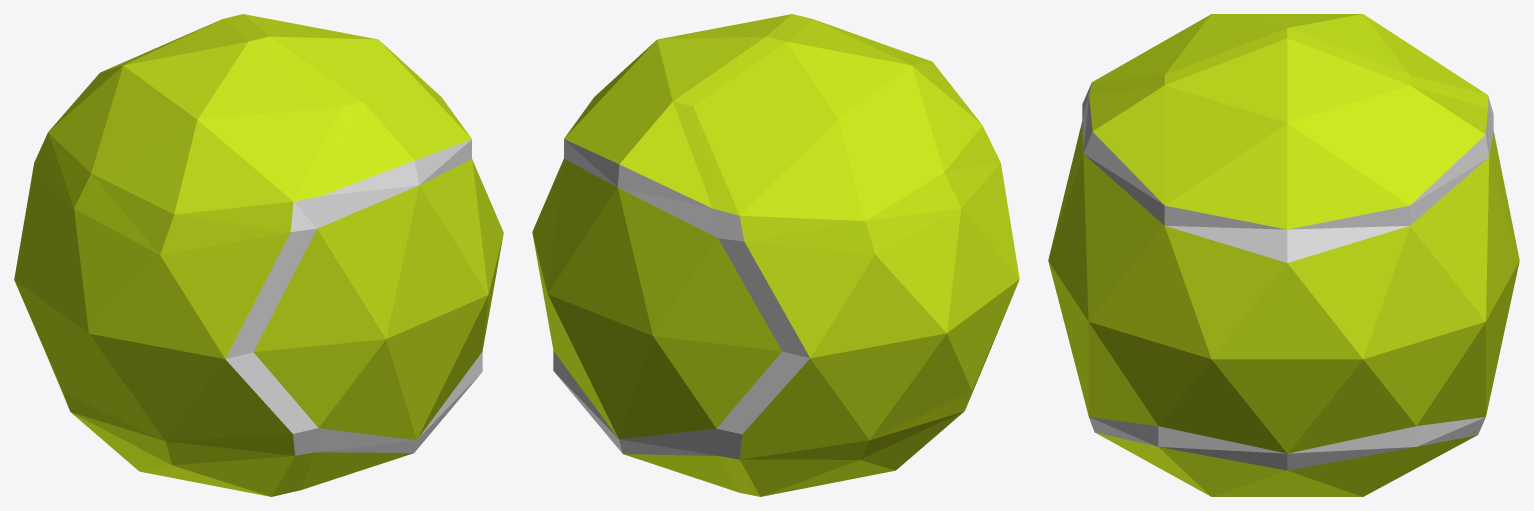
The model's file is Ball.fbx.
The picture shows the model from 3 angles, left to right: view 1: azimuth 30°, elevation 25°; view 2: azimuth 150°, elevation 25°; view 3: azimuth 270°, elevation 25°; orthographic projection. The views are drawn at different scales.
Visible parts, largest first — view 1: Ball; view 2: Ball; view 3: Ball.
Part boxes in pixels (left/top/right/bottom): Ball: left=14, top=14, right=503, bottom=496; Ball: left=532, top=14, right=1019, bottom=496; Ball: left=1048, top=14, right=1519, bottom=496.
Bounding box in the file's own units: 20.17 × 20.12 × 19.35.
